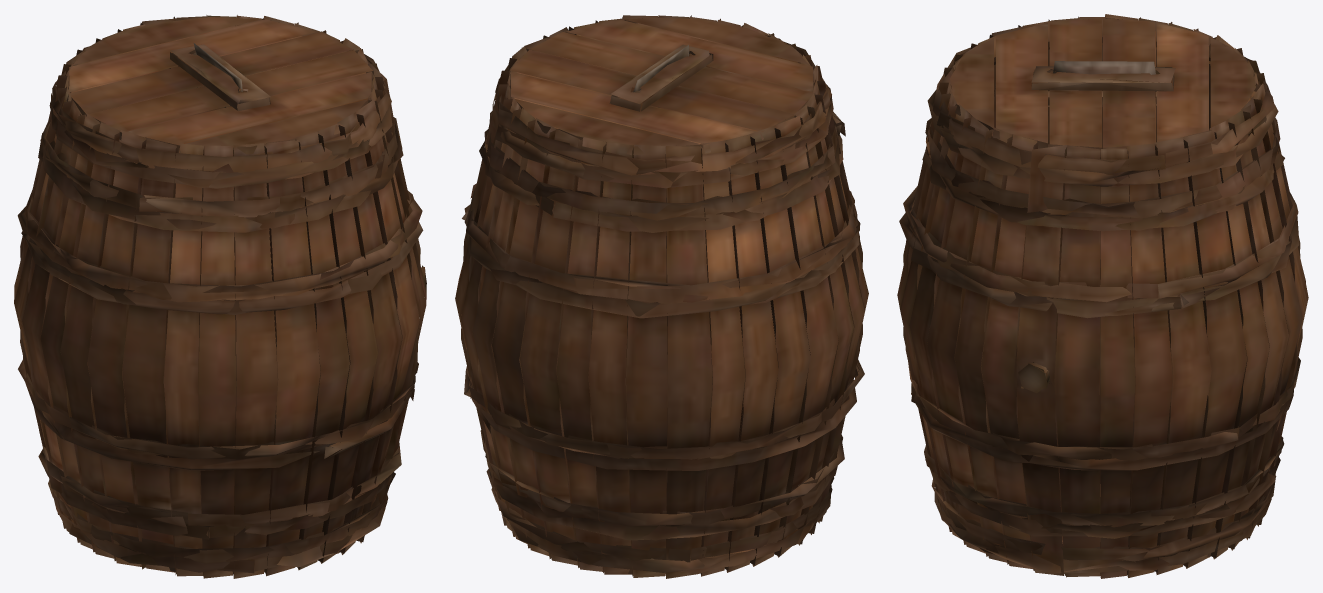
The model's file is barrel_a.glb.
The picture shows the model from 3 angles, left to right: view 1: azimuth 30°, elevation 25°; view 2: azimuth 150°, elevation 25°; view 3: azimuth 270°, elevation 25°; orthographic projection.
Parts seen in each view (by area): view 1: wooden_barrels_01_barrel01; view 2: wooden_barrels_01_barrel01; view 3: wooden_barrels_01_barrel01.
Part boxes in pixels (x1=…): wooden_barrels_01_barrel01: x1=14, y1=15, x2=426, y2=578; wooden_barrels_01_barrel01: x1=455, y1=15, x2=868, y2=578; wooden_barrels_01_barrel01: x1=897, y1=14, x2=1308, y2=578.
Size of the model in its own units: 0.7616 by 0.9185 by 0.7616.
Materials: 1 (1 with a texture image).
